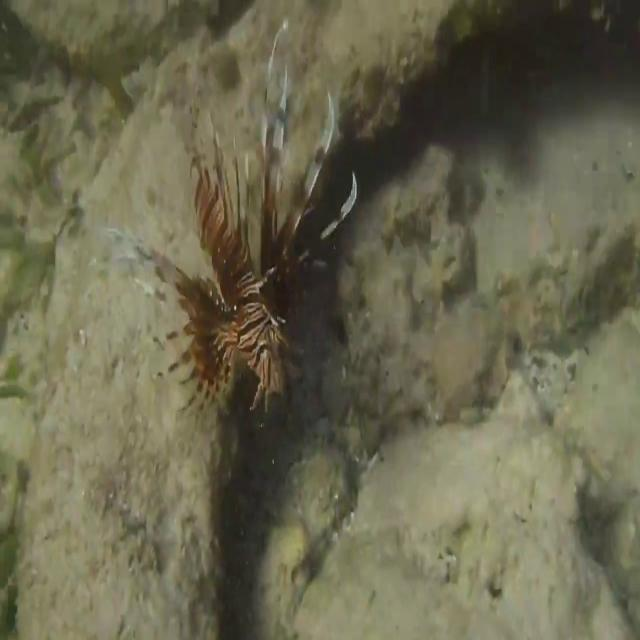Aslan Baligi: (130, 20, 358, 422)
